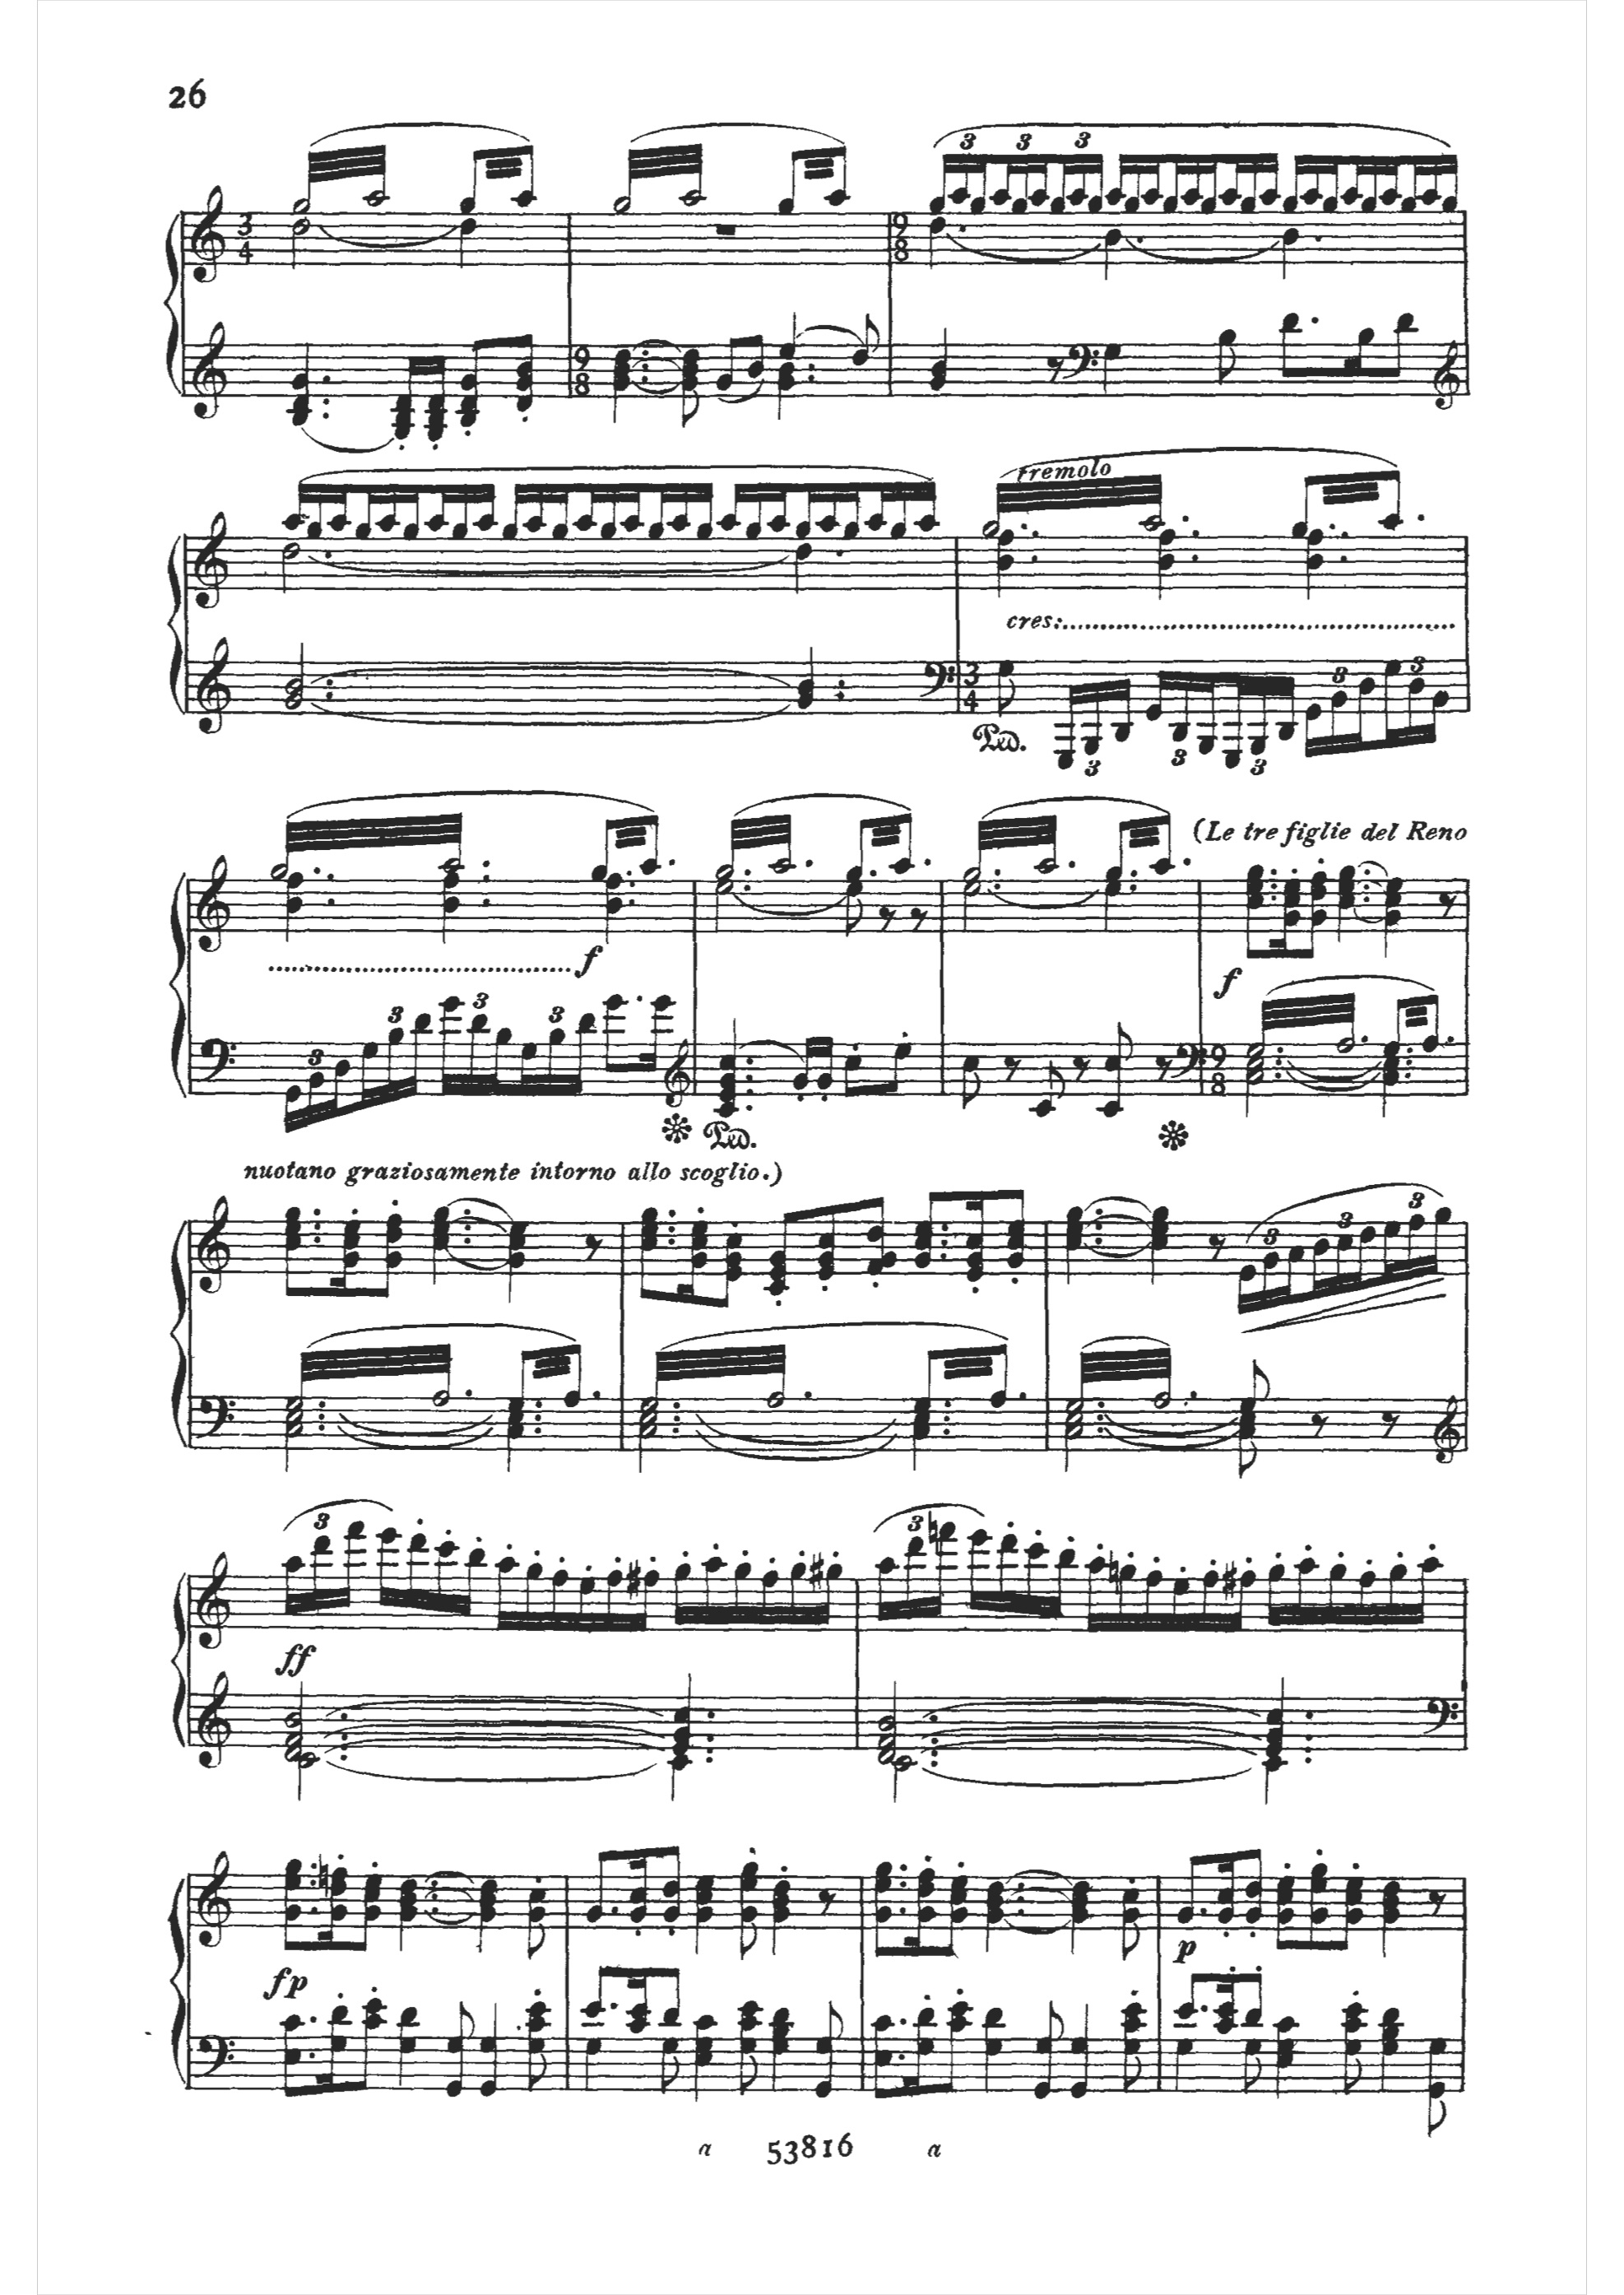3_4_time_sig: (232, 207, 258, 269)
bass_clef: (197, 1383, 244, 1452), (192, 1035, 243, 1093), (193, 2030, 237, 2091)
treble_clef: (192, 1190, 243, 1307), (188, 627, 239, 742), (186, 849, 237, 959), (190, 506, 239, 612), (190, 1546, 236, 1657), (190, 1849, 239, 1951), (192, 1666, 236, 1775), (188, 313, 230, 422), (185, 183, 228, 286)
